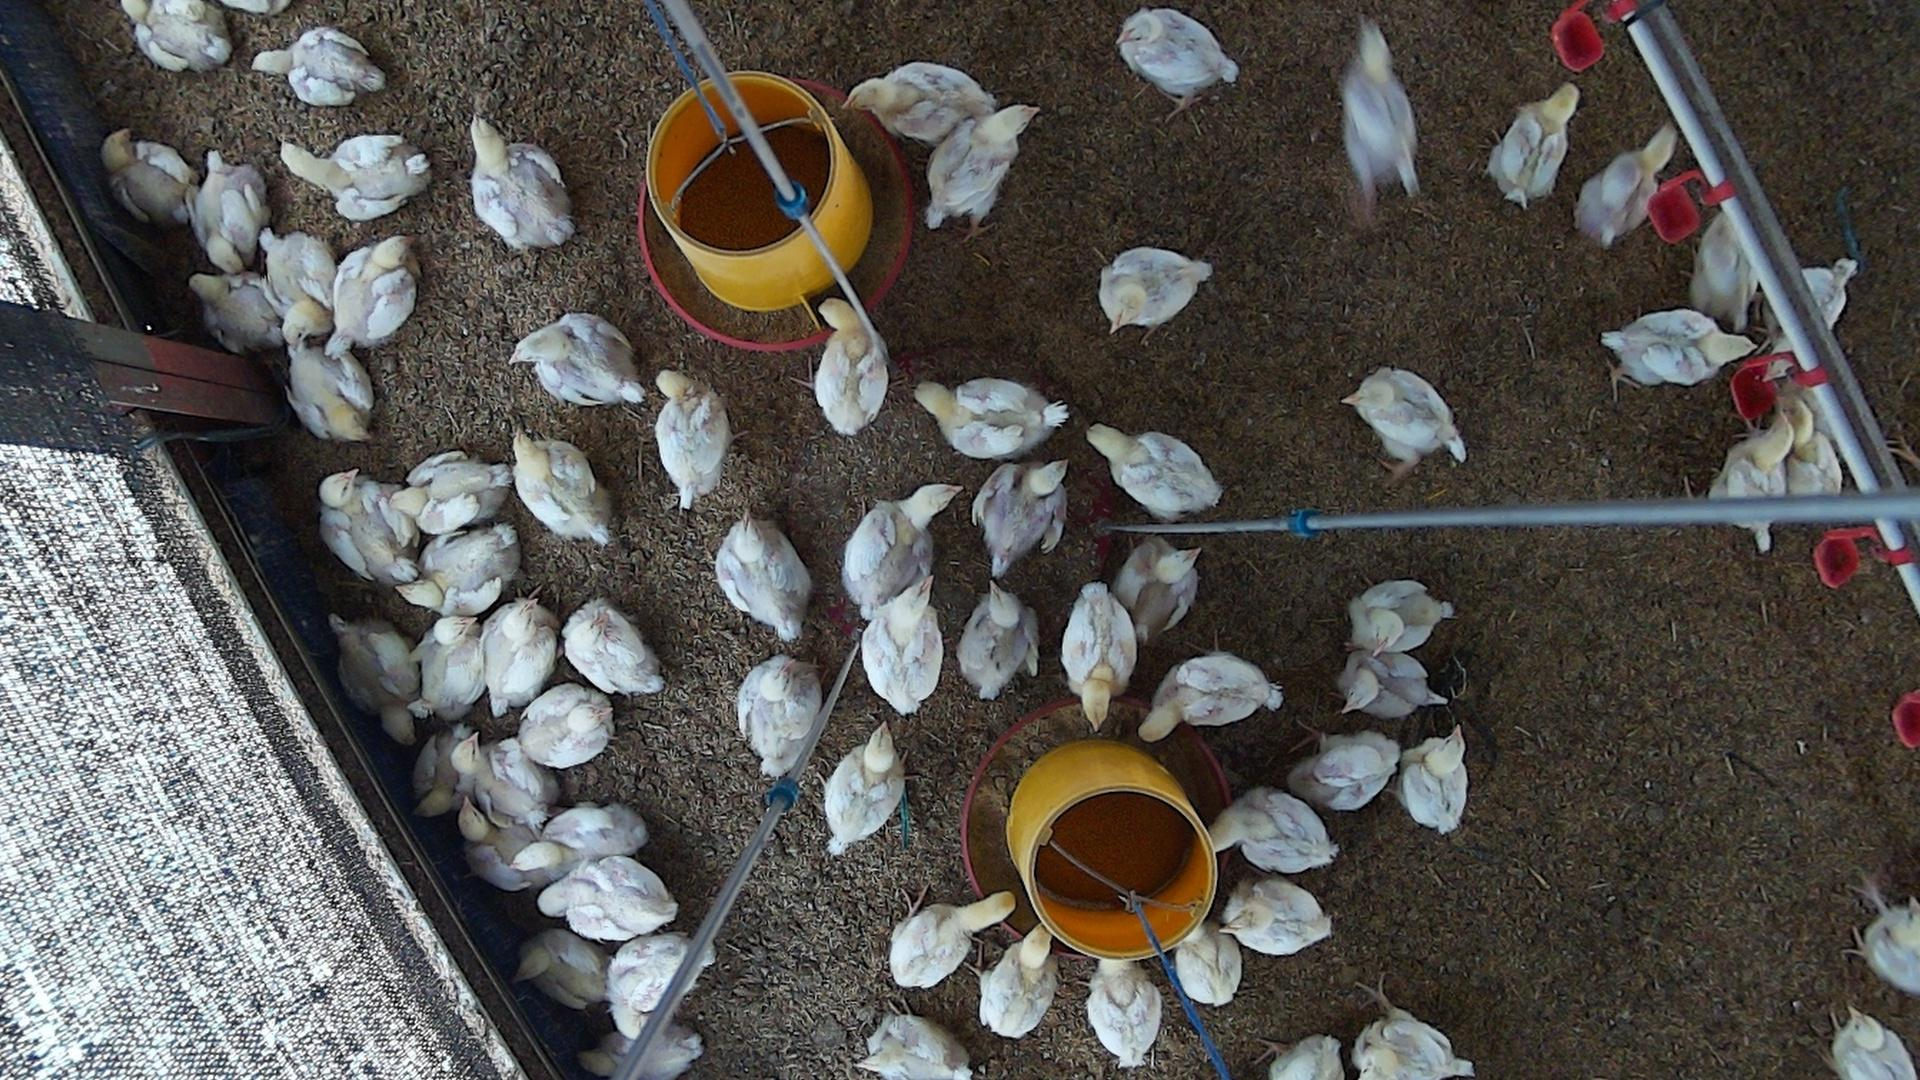ayam_broiler: (843, 485, 953, 620), (926, 104, 1038, 231), (1342, 20, 1418, 208), (471, 120, 574, 251), (1353, 971, 1474, 1080), (281, 135, 433, 222), (1088, 426, 1222, 521), (512, 314, 646, 407), (915, 380, 1071, 460), (1346, 368, 1466, 471), (1139, 654, 1283, 740), (713, 514, 810, 641), (537, 856, 678, 942), (1575, 131, 1676, 249), (847, 63, 996, 144), (890, 894, 1015, 989), (736, 657, 832, 779), (1602, 311, 1758, 385), (1063, 583, 1139, 732), (1116, 9, 1237, 103), (975, 458, 1068, 579), (1486, 84, 1578, 207), (320, 471, 417, 588), (861, 579, 943, 716), (398, 524, 518, 616), (1207, 790, 1337, 874), (514, 429, 612, 541), (385, 452, 512, 538), (825, 724, 906, 857), (815, 293, 889, 436), (655, 371, 731, 506), (327, 237, 417, 351), (253, 28, 384, 105), (1688, 200, 1763, 332), (455, 732, 553, 832), (608, 930, 692, 1044), (563, 599, 662, 695), (327, 615, 418, 719), (956, 585, 1039, 699), (191, 150, 266, 276), (1100, 248, 1212, 331), (1286, 732, 1400, 812), (483, 595, 556, 719), (286, 338, 372, 443), (1114, 539, 1199, 646), (261, 231, 338, 344), (1222, 877, 1333, 955), (978, 927, 1055, 1039), (104, 133, 194, 227), (462, 796, 549, 893), (1087, 960, 1162, 1068), (411, 616, 489, 720), (517, 686, 613, 769), (1349, 580, 1453, 655), (518, 923, 608, 1010), (123, 0, 229, 71), (858, 1013, 971, 1080), (187, 273, 284, 351), (1399, 728, 1469, 835), (1708, 415, 1793, 502), (1340, 651, 1445, 720), (1857, 889, 1919, 997), (584, 1026, 702, 1080), (1832, 1009, 1917, 1080), (539, 806, 645, 860), (1175, 926, 1242, 1006), (1269, 1038, 1342, 1080)
